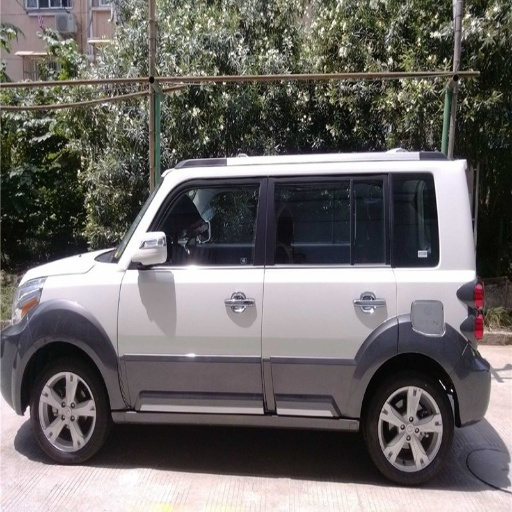back_left_door: (267, 176, 394, 414)
front_left_door: (118, 175, 269, 407)
